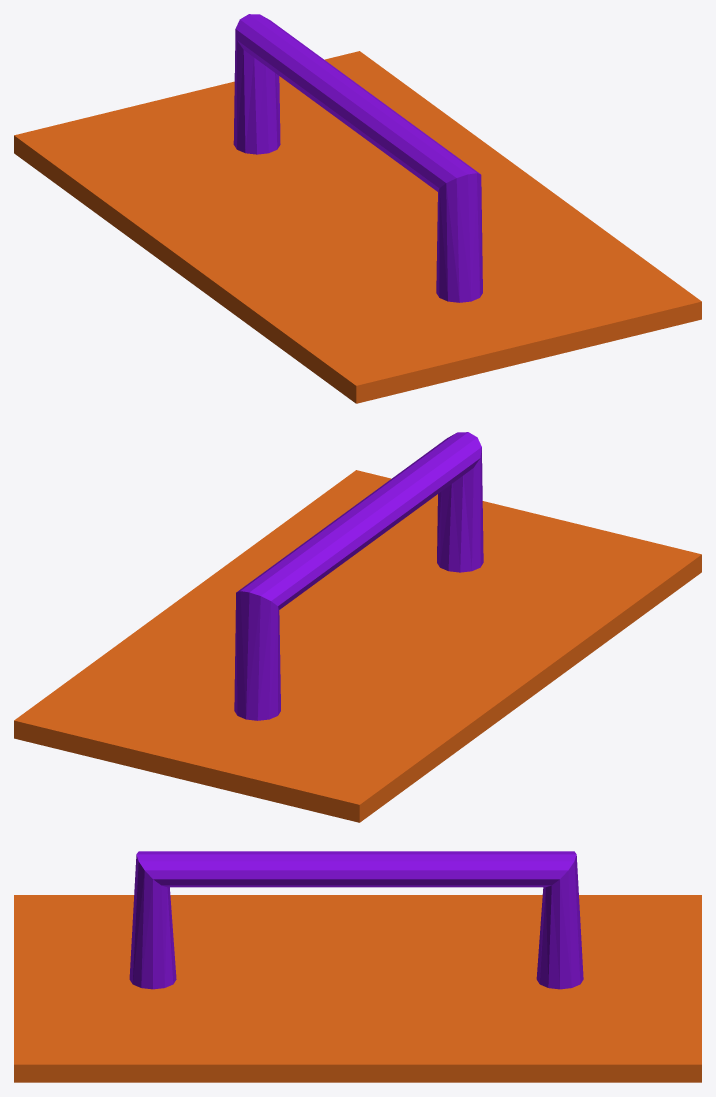
Rendered from whirlpool_bins_lid.dae.
The picture shows the model from 3 angles, top to bottom: view 1: azimuth 30°, elevation 25°; view 2: azimuth 150°, elevation 25°; view 3: azimuth 270°, elevation 25°; orthographic projection.
Visible parts, largest first — view 1: Lid; view 2: Lid; view 3: Lid.
Boxes of the visible parts, x1,y1,x2,y2 form: Lid: (14,14,701,403); Lid: (14,432,701,822); Lid: (14,851,701,1082).
Bounding box in the file's own units: 0.2011 × 0.3449 × 0.0793.
